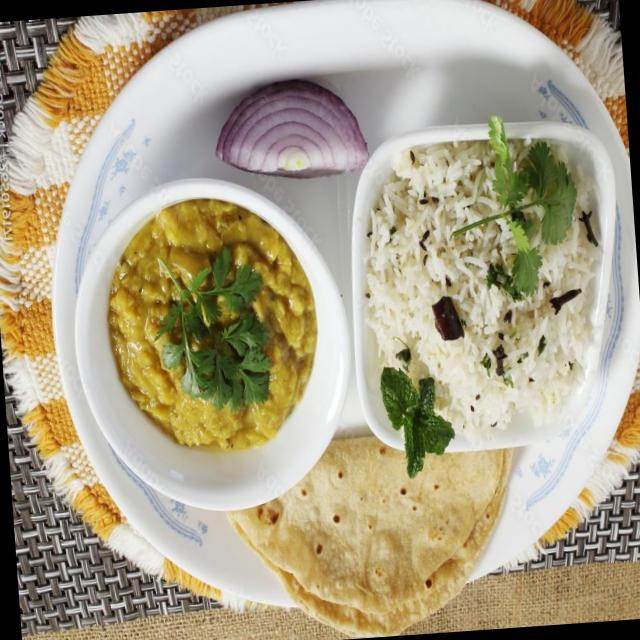dal: (105, 189, 328, 460)
rice: (365, 136, 612, 443)
roti: (224, 429, 523, 640)
